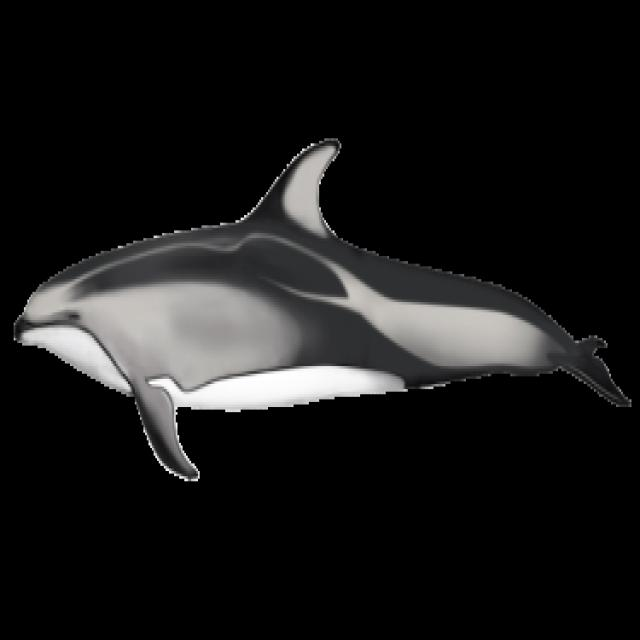penguin: (14, 138, 630, 479)
